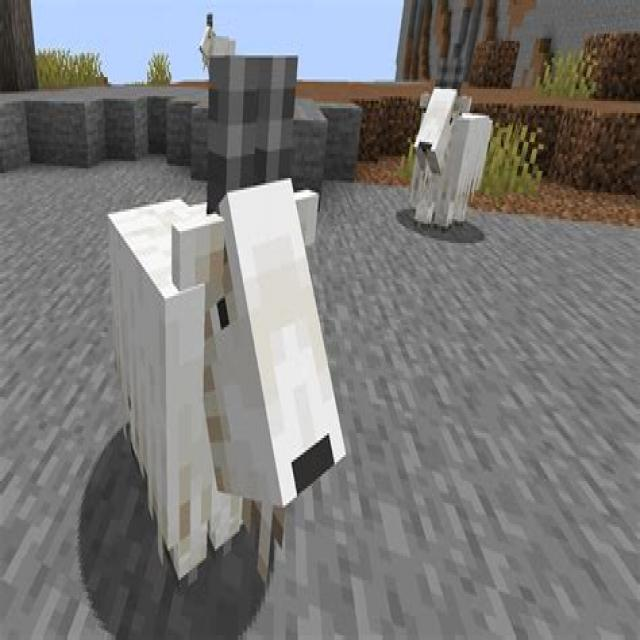Goat: (104, 171, 348, 599), (410, 82, 496, 238), (197, 7, 239, 87)
